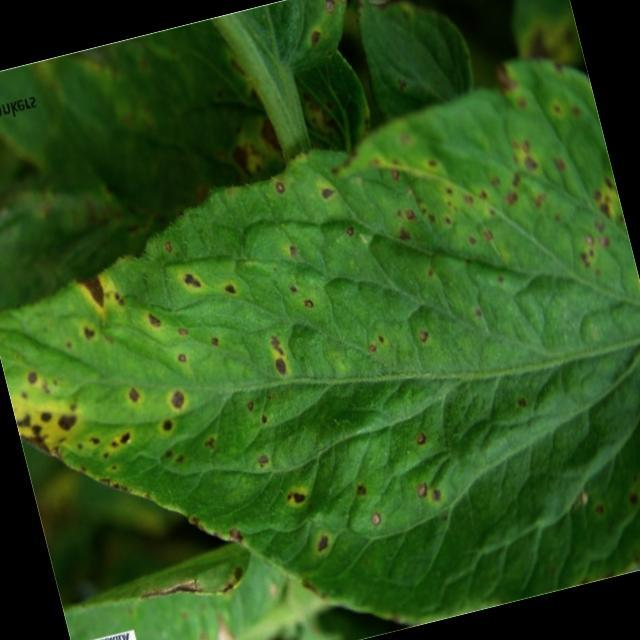Tomato bacterial spot leaf: (0, 44, 640, 640)
